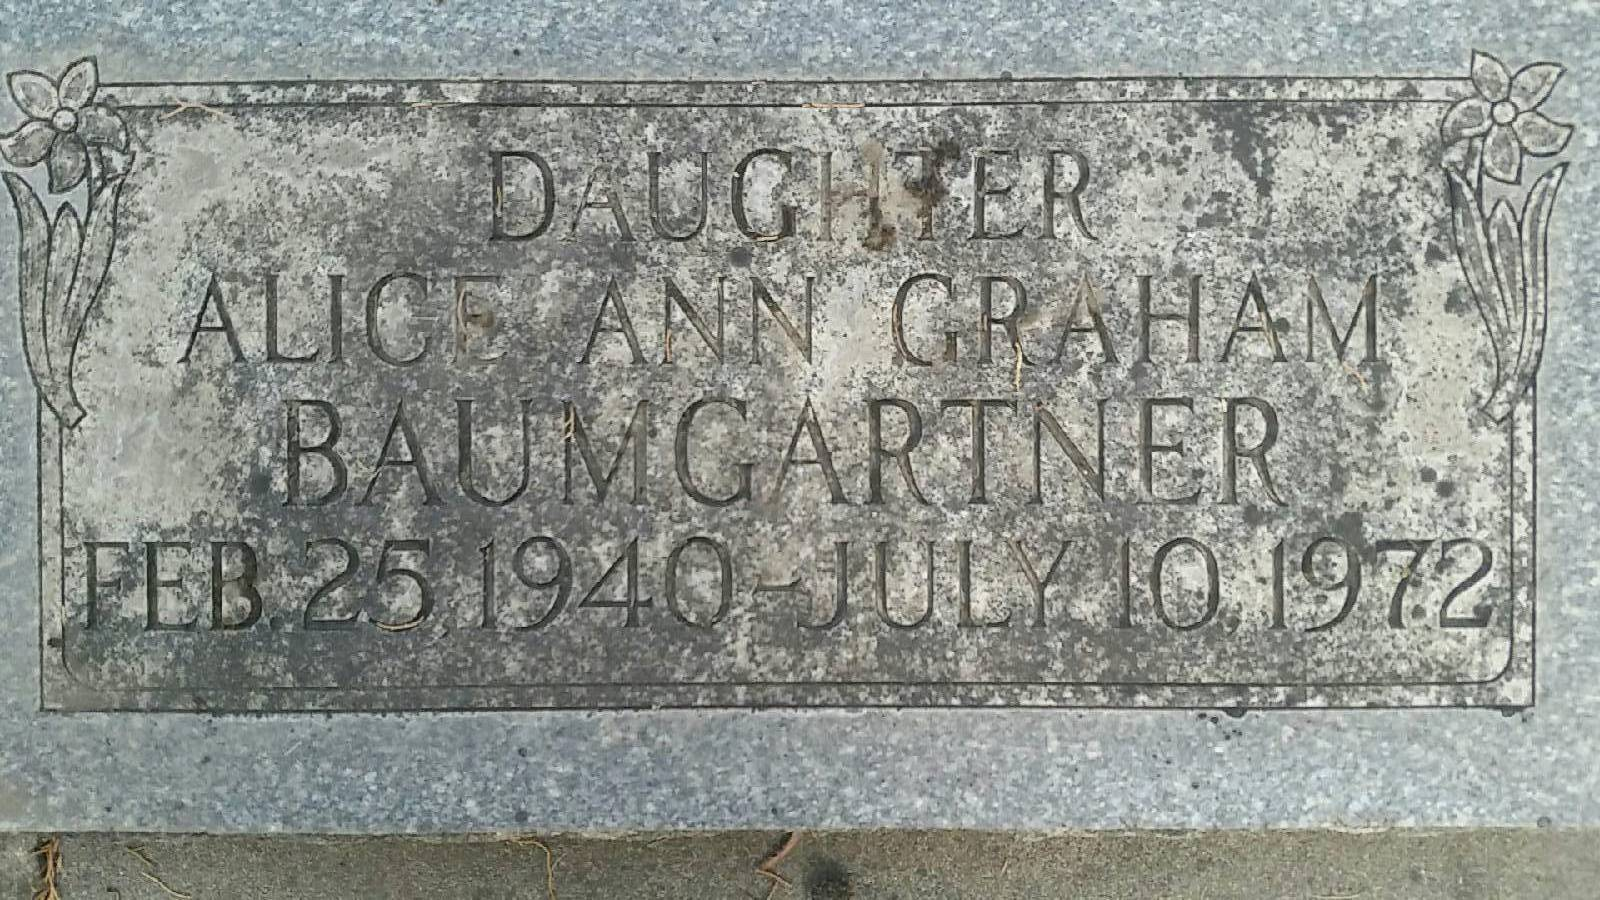flat: (0, 0, 1593, 842)
